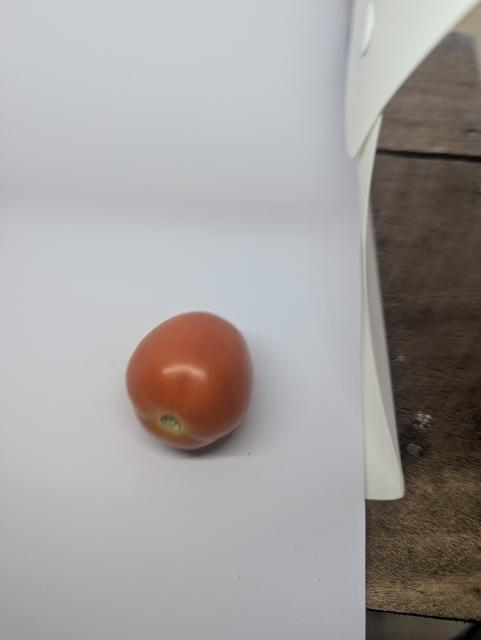red: (119, 291, 262, 469)
